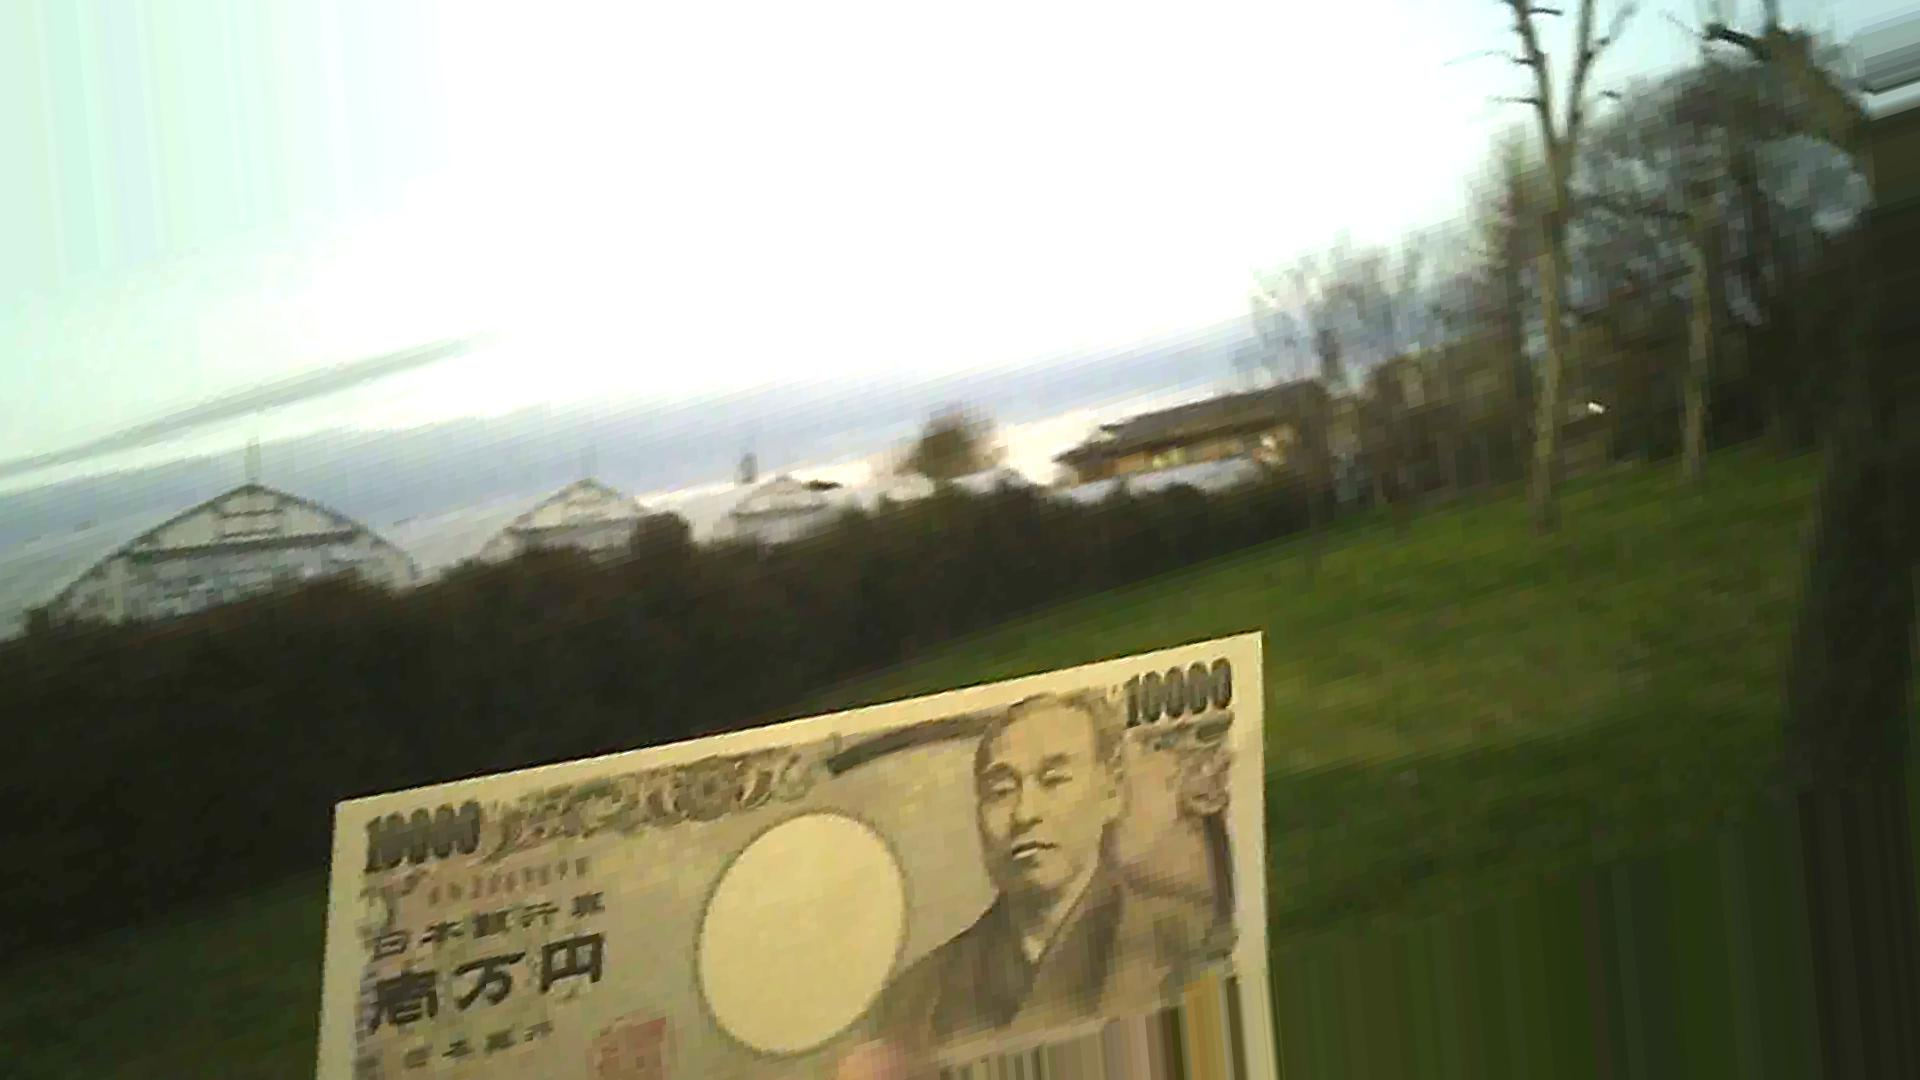10,000 Yen: (313, 624, 1282, 1056)
